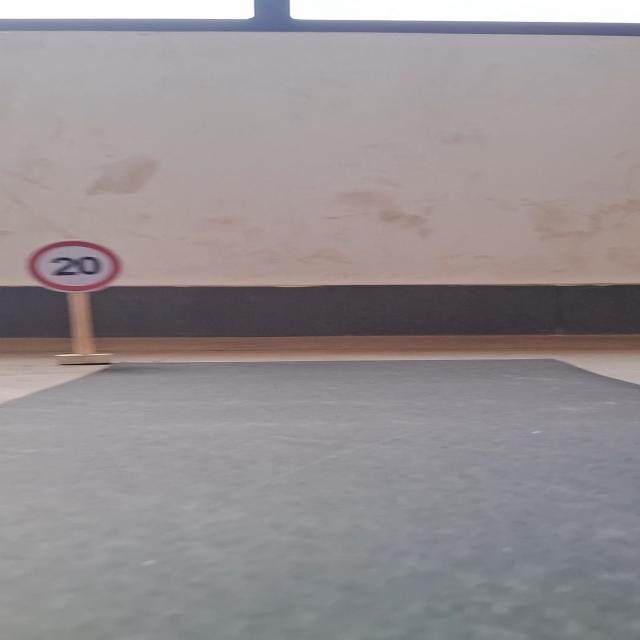Speed20: (21, 237, 135, 299)
